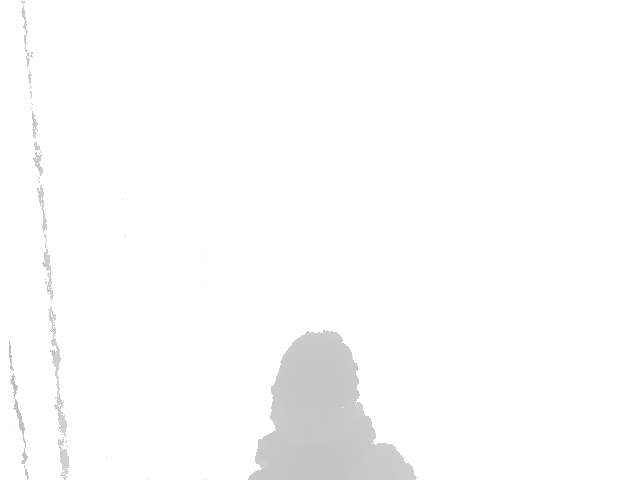head: (270, 329, 373, 440)
person: (249, 329, 415, 480)
